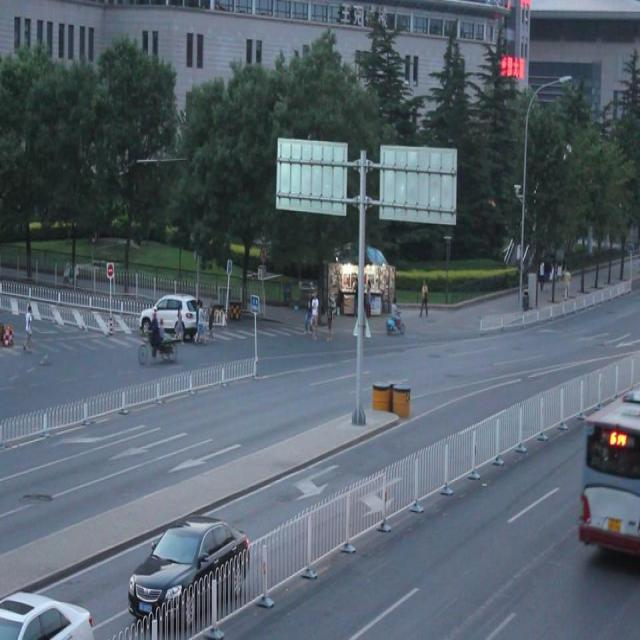car: (128, 516, 250, 626), (1, 589, 92, 640), (140, 294, 200, 338)
van: (576, 388, 640, 553)
